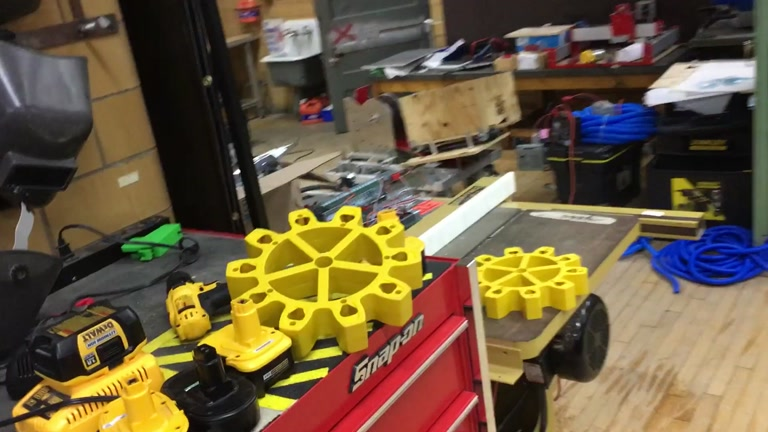gear: (224, 205, 424, 358), (463, 245, 590, 319)
